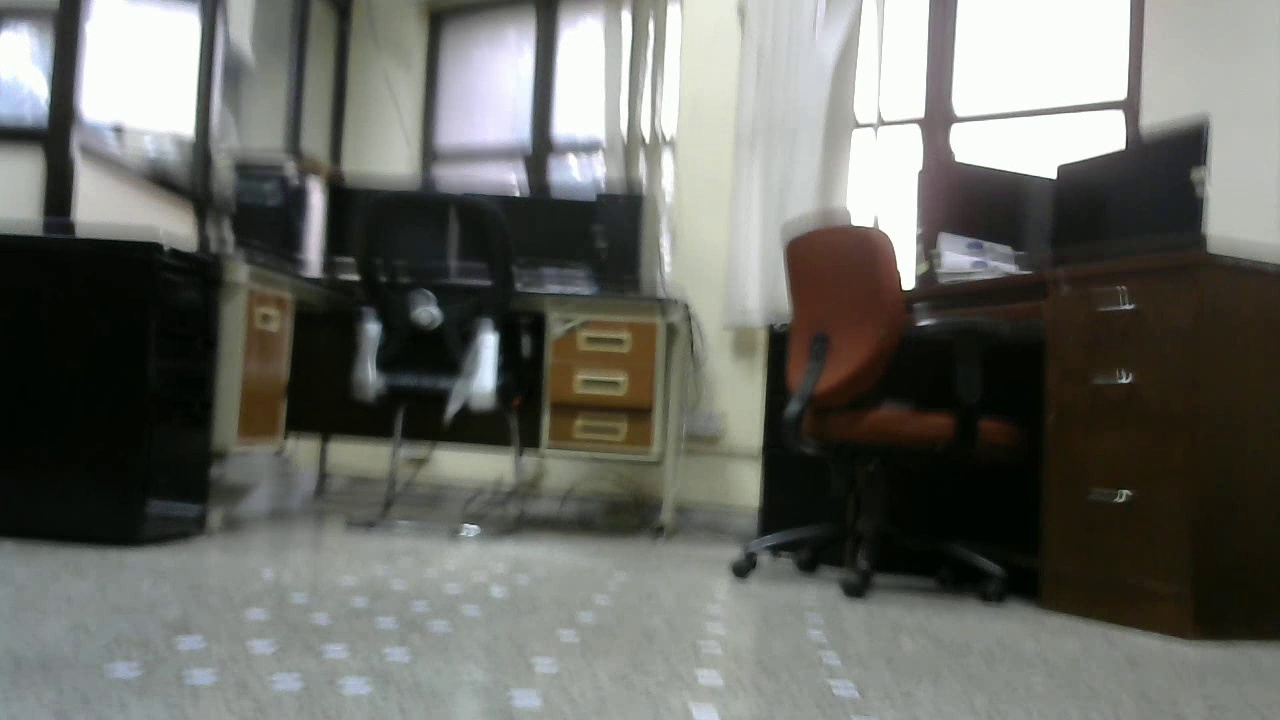chair: (731, 222, 1025, 602), (353, 190, 534, 538)
